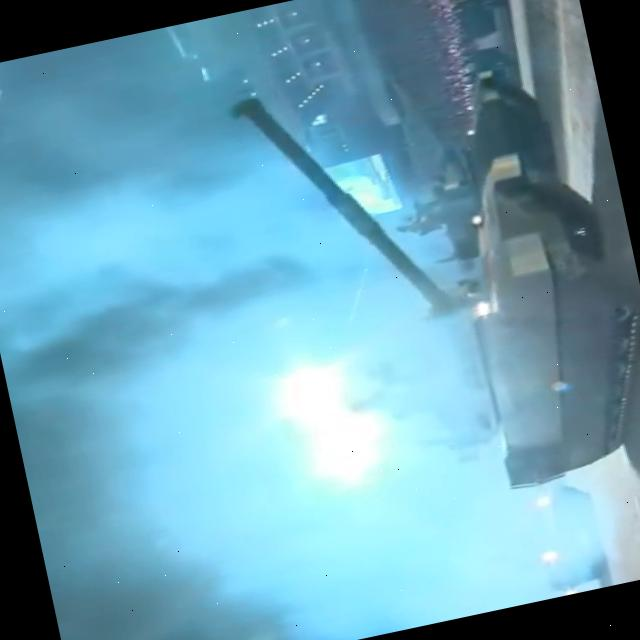north tank: (211, 24, 640, 569), (357, 51, 597, 283)
